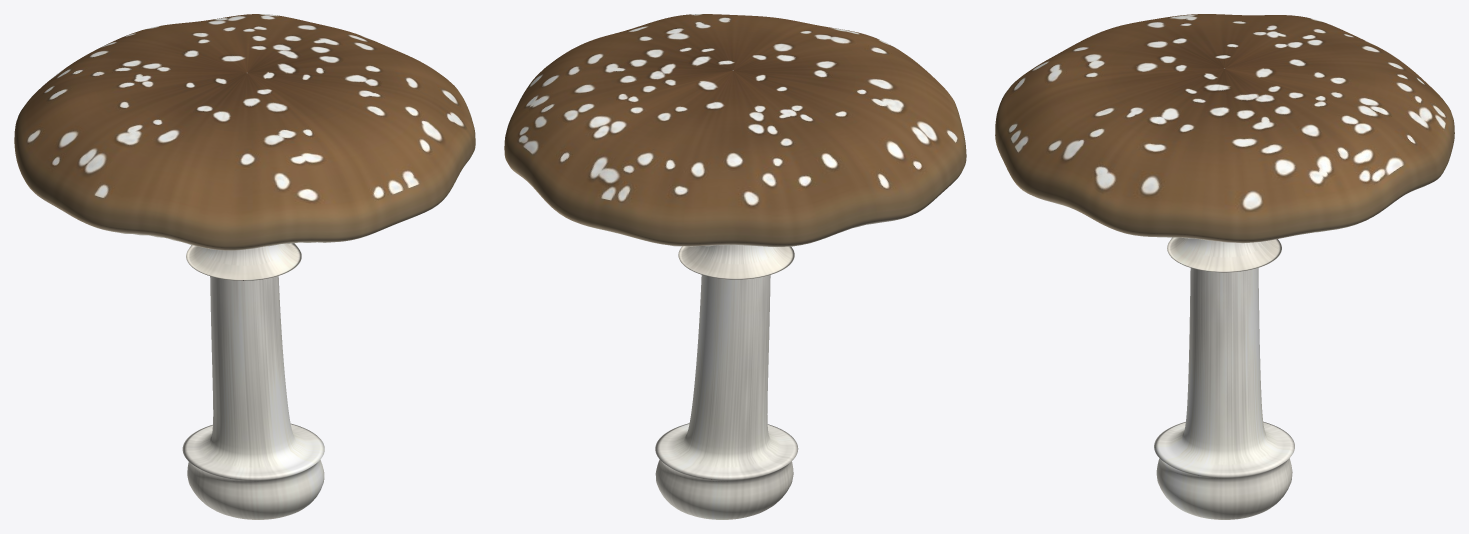
The model's file is amanita-pantherina-drawn.glb.
3 views of the same model, side by side, from view 1: azimuth 30°, elevation 25°; view 2: azimuth 150°, elevation 25°; view 3: azimuth 270°, elevation 25° (orthographic).
Size of the model in its own units: 0.7845 by 0.81 by 0.7859.
Materials: 1 (1 with a texture image).
